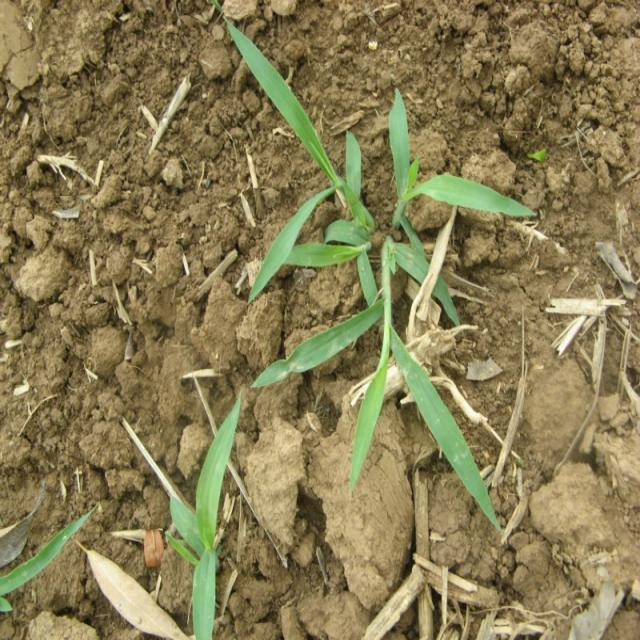bg: (220, 15, 527, 533)
